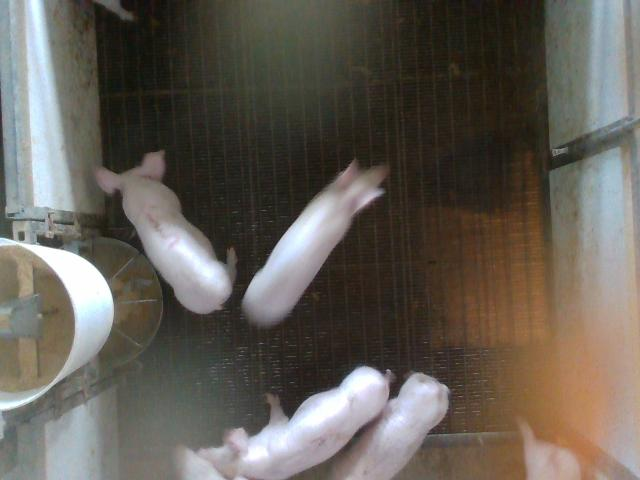pig-3: (94, 152, 236, 313)
